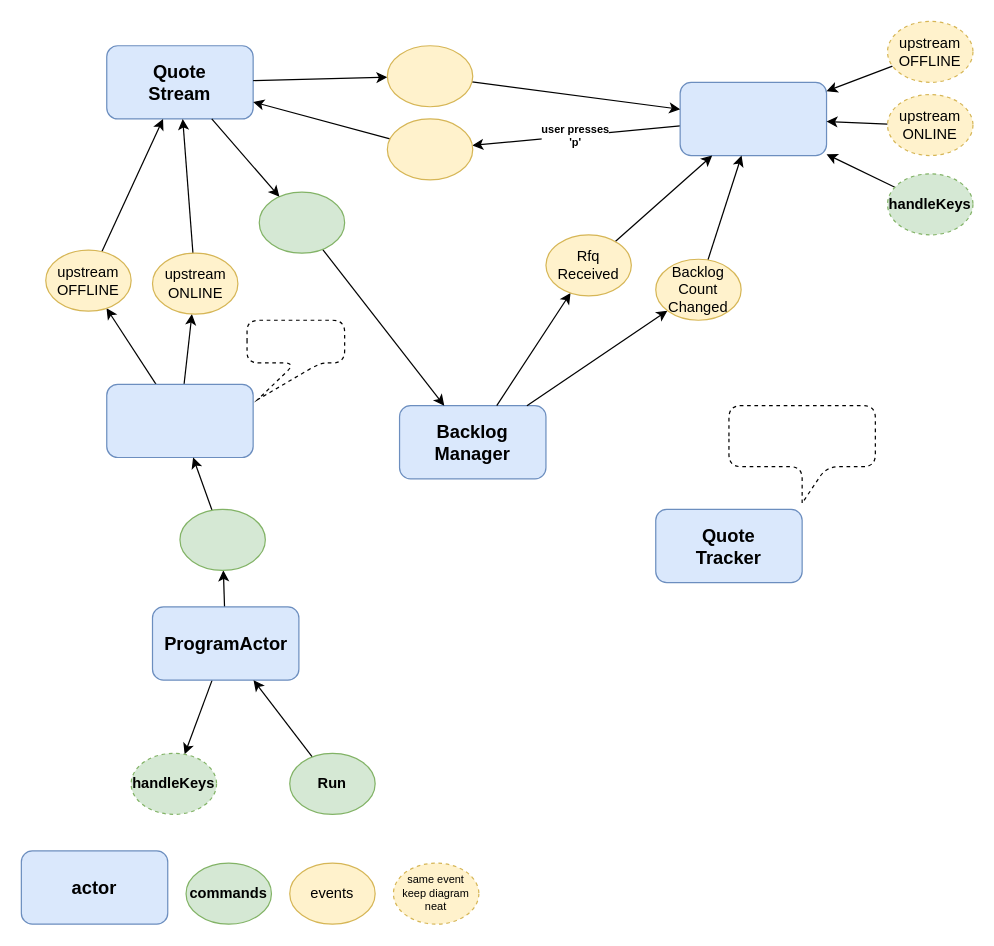
The diagram is 994 pixels wide and 946 high, and some of its shapes have lost their labels. The centre of each missing label's shape, as x and y in pixels:
faked for the demo: point (295, 359)
not yet implemented: point (801, 453)
RFQ: point (301, 222)
Spread Changed: point (429, 76)
Start Monitoring: point (222, 539)
Toggle Quote Stream: point (429, 149)
UI Manager: point (753, 118)
Upstream Monitor: point (179, 420)
